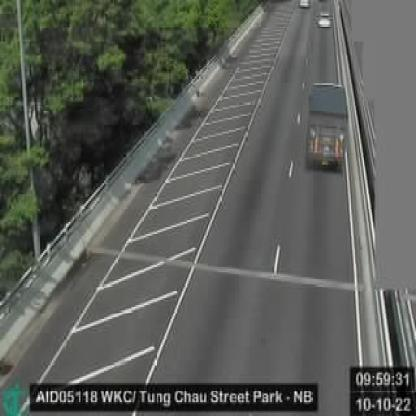Car: (318, 14, 333, 29), (298, 1, 312, 10)
Truck: (307, 81, 348, 174)
